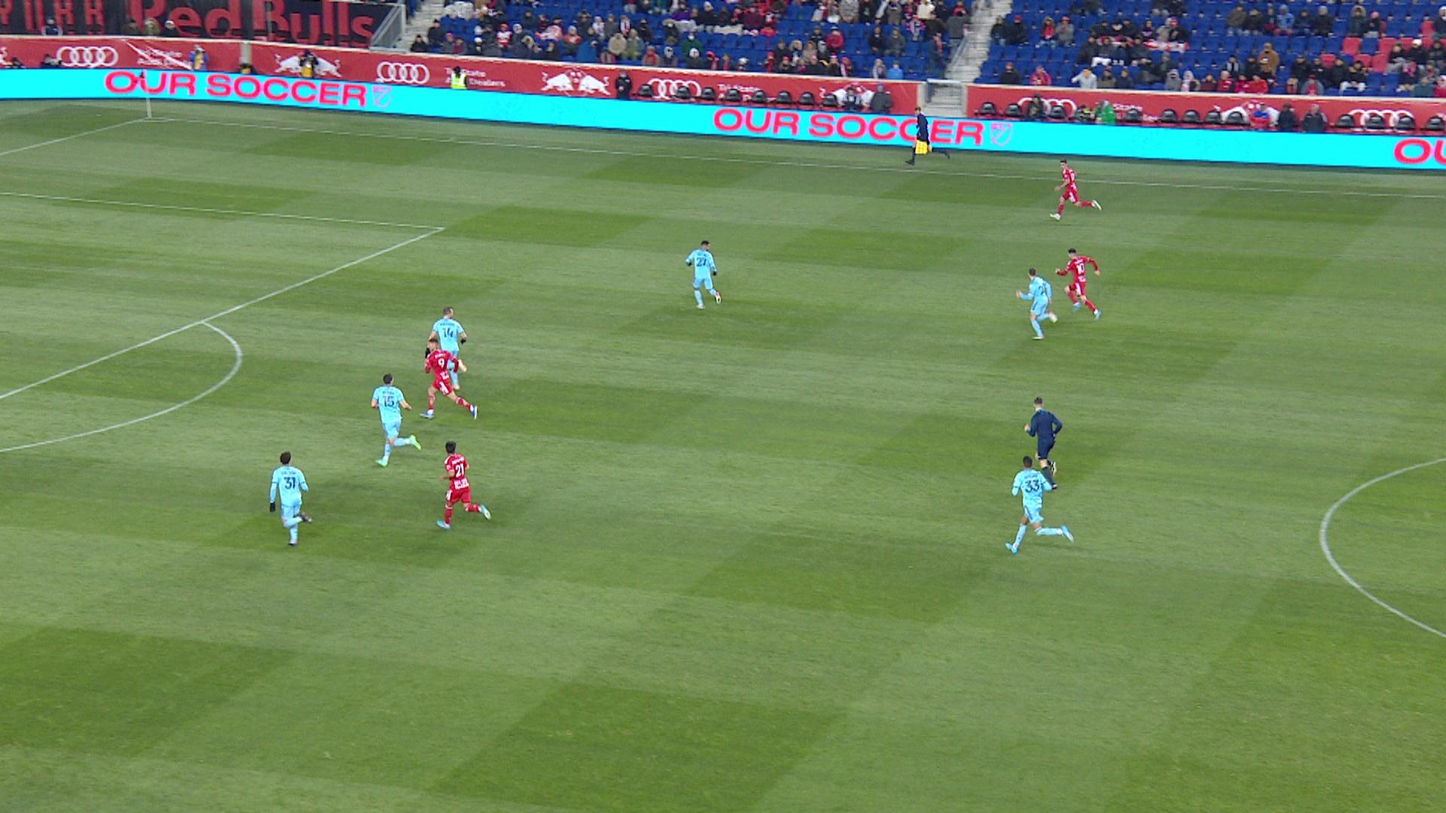Player: (1006, 456, 1074, 553), (437, 441, 491, 530), (420, 338, 477, 419), (371, 374, 421, 466), (270, 452, 312, 546), (1055, 248, 1102, 320), (1050, 159, 1102, 220), (1016, 268, 1058, 339), (425, 307, 467, 371), (685, 241, 721, 309), (447, 359, 460, 390)
referee: (1024, 397, 1062, 490), (905, 107, 950, 165)
